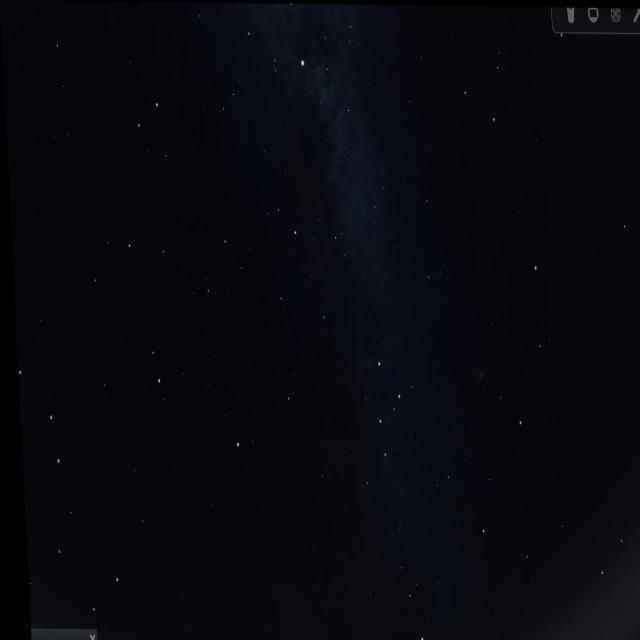cassiopeia: (342, 339, 408, 508)
ursa_major: (14, 349, 121, 609)
